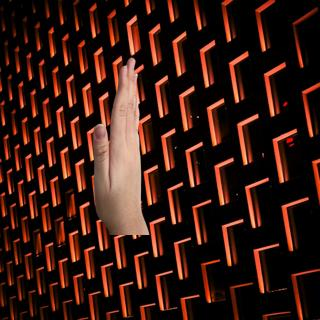Right: (84, 53, 152, 231)
